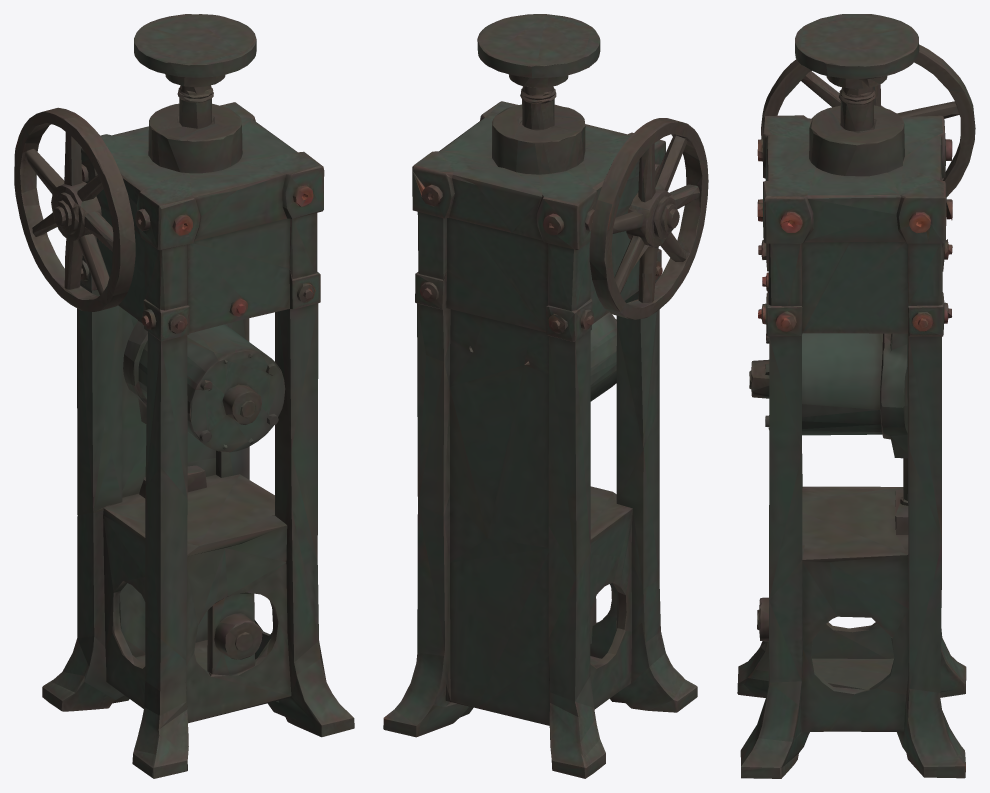
The model's file is press.glb.
The picture shows the model from 3 angles, left to right: view 1: azimuth 30°, elevation 25°; view 2: azimuth 150°, elevation 25°; view 3: azimuth 270°, elevation 25°; orthographic projection. The views are drawn at different scales.
Size of the model in its own units: 0.7104 by 1.9 by 0.5963.
1 material, 1 textured.
